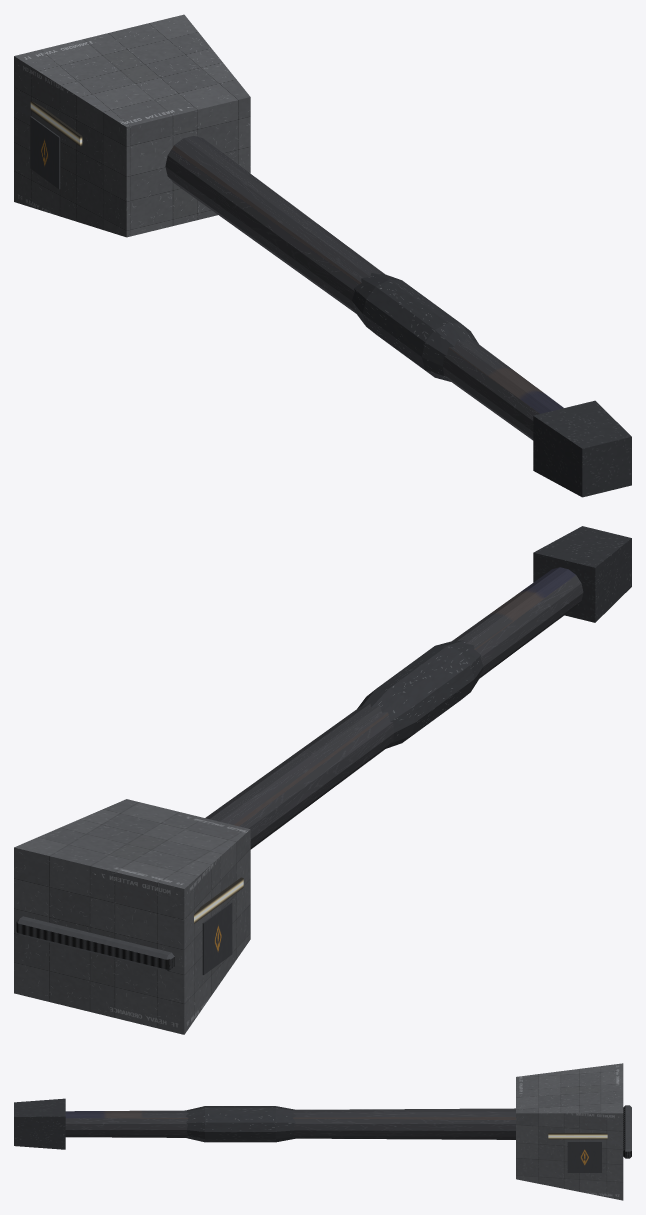
The model's file is veh_ravager_90.obj.
The picture shows the model from 3 angles, top to bottom: view 1: azimuth 30°, elevation 25°; view 2: azimuth 150°, elevation 25°; view 3: azimuth 270°, elevation 25°; orthographic projection. The views are drawn at different scales.
Visible parts, largest first — view 1: veh_ravager_90; view 2: veh_ravager_90; view 3: veh_ravager_90.
Boxes of the visible parts, <box> form: veh_ravager_90: <box>14,14,631,497</box>; veh_ravager_90: <box>14,526,631,1034</box>; veh_ravager_90: <box>14,1063,631,1200</box>.
Size of the model in its own units: 0.56 by 0.45 by 2.88.
1 material, 1 textured.
